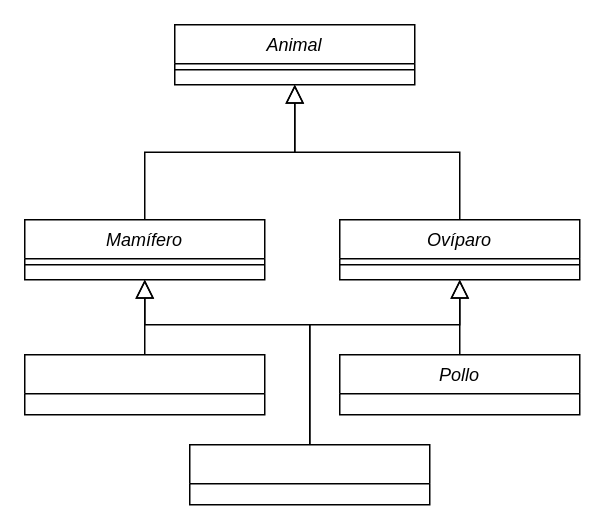
Image size: 605x530. Some labels were removed from this diagram. Each missing label, with the centre of its shape:
"Gato" goes at [144,384].
"Ornitorrinco" goes at [309,474].
